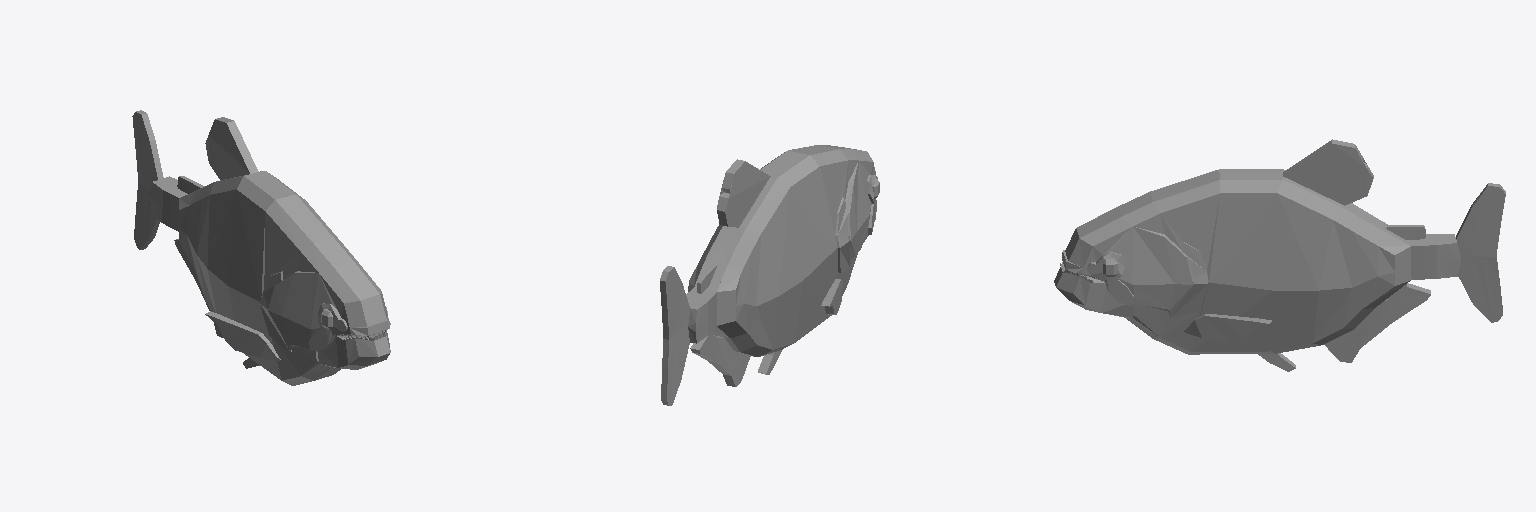
Rendered from Piranha.obj.
The picture shows the model from 3 angles: view 1: azimuth 30°, elevation 25°; view 2: azimuth 150°, elevation 25°; view 3: azimuth 270°, elevation 25°; orthographic projection.
Visible parts, largest first — view 1: Fish_Cube; view 2: Fish_Cube; view 3: Fish_Cube.
Boxes of the visible parts, x1,y1,x2,y2 form: Fish_Cube: [132, 110, 390, 385]; Fish_Cube: [660, 145, 879, 405]; Fish_Cube: [1054, 139, 1505, 371].
Size of the model in its own units: 2.59 by 5.05 by 9.01.